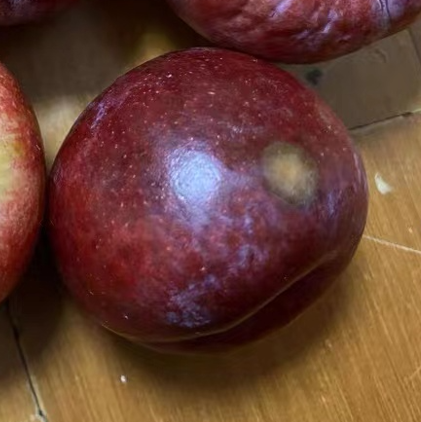plum_B: (46, 46, 369, 356)
